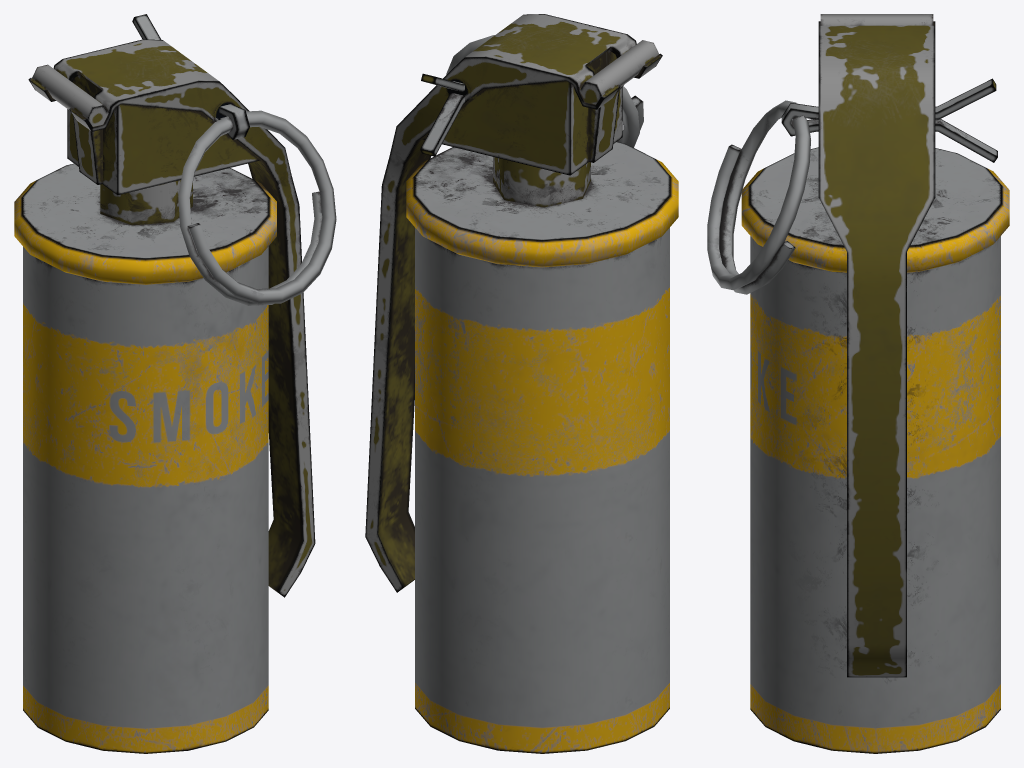
Rendered from GrenadeSmoke.fbx.
The picture shows the model from 3 angles, left to right: view 1: azimuth 30°, elevation 25°; view 2: azimuth 150°, elevation 25°; view 3: azimuth 270°, elevation 25°; orthographic projection. The views are drawn at different scales.
Parts seen in each view (by area): view 1: GrenadeSmoke; view 2: GrenadeSmoke; view 3: GrenadeSmoke.
Part boxes in pixels (x1,y1,x2,y2): GrenadeSmoke: (14,14,336,753); GrenadeSmoke: (365,14,678,753); GrenadeSmoke: (707,14,1009,753).
Size of the model in its own units: 8.55 by 19.13 by 8.1.
